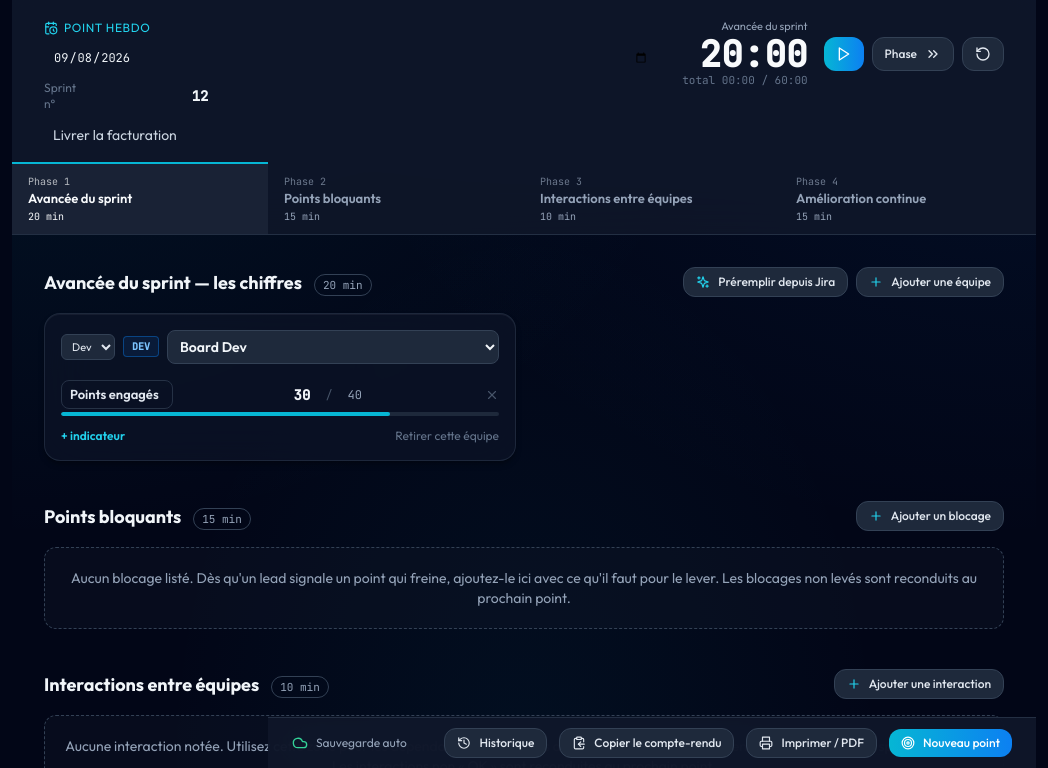
Scenario: PointHebdoPage › sauvegarde automatique › signale une sauvegarde impossible
This screenshot has width=1048, height=768.
Expected: the field named "Numéro du sprint" is shown, [86,81,314,111]
Replace the text in the field named "Valeur — Points engagés" with "31": [249, 394] box [179,380,319,410]
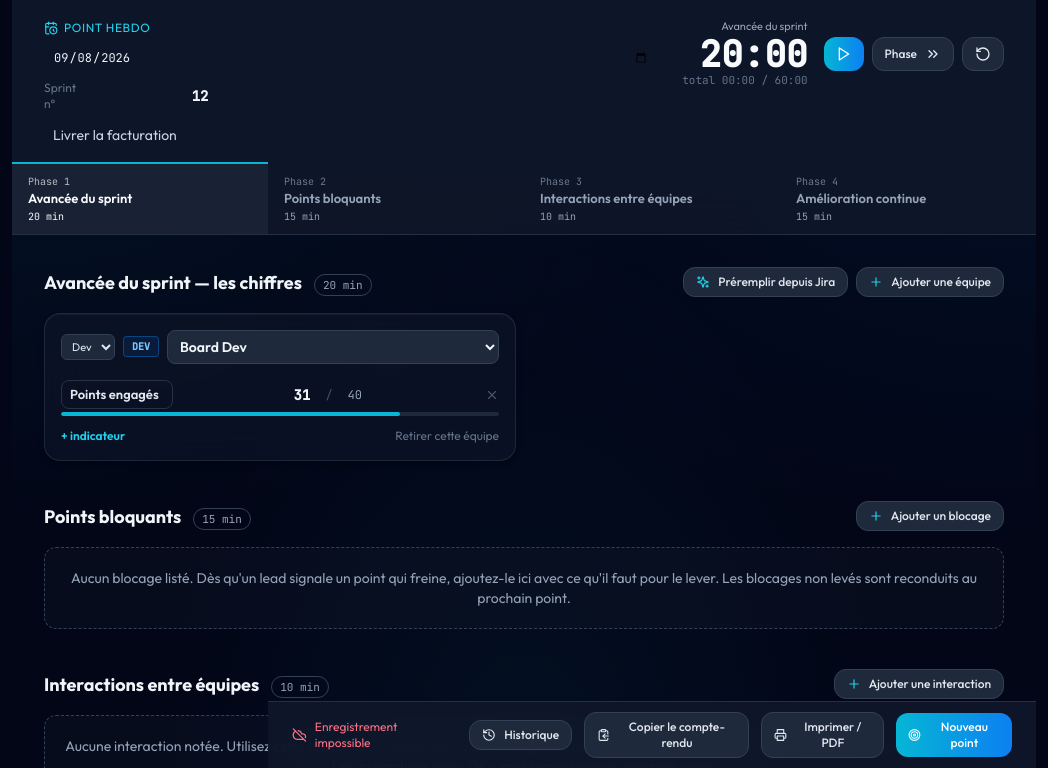
Now the text "Enregistrement impossible" is shown, box [292,719,397,750]
